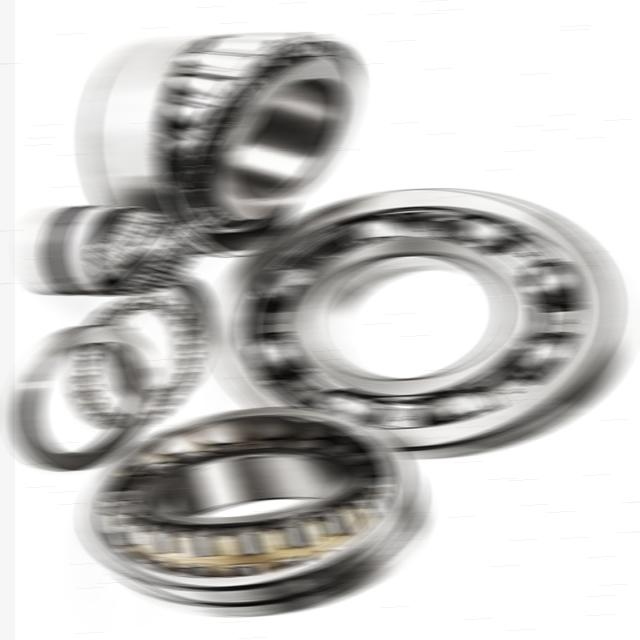Bearing: (207, 185, 631, 460), (76, 408, 426, 620), (84, 26, 366, 258), (10, 298, 206, 472), (25, 204, 206, 298)
